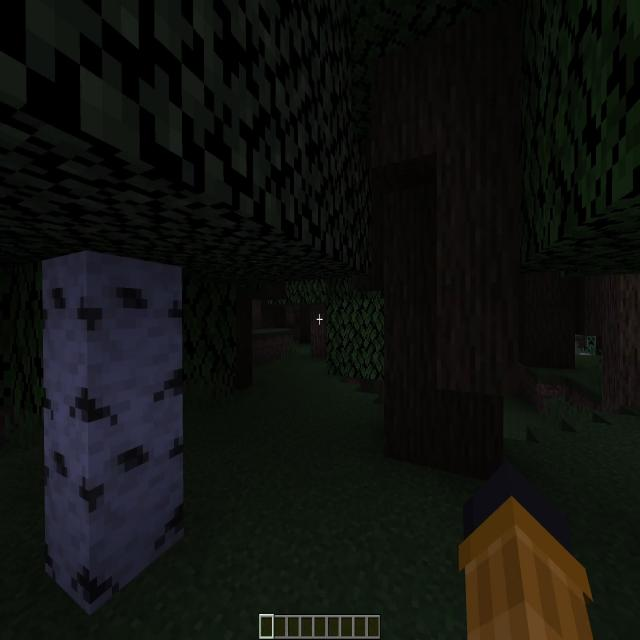Creeper: (587, 336, 597, 355)
